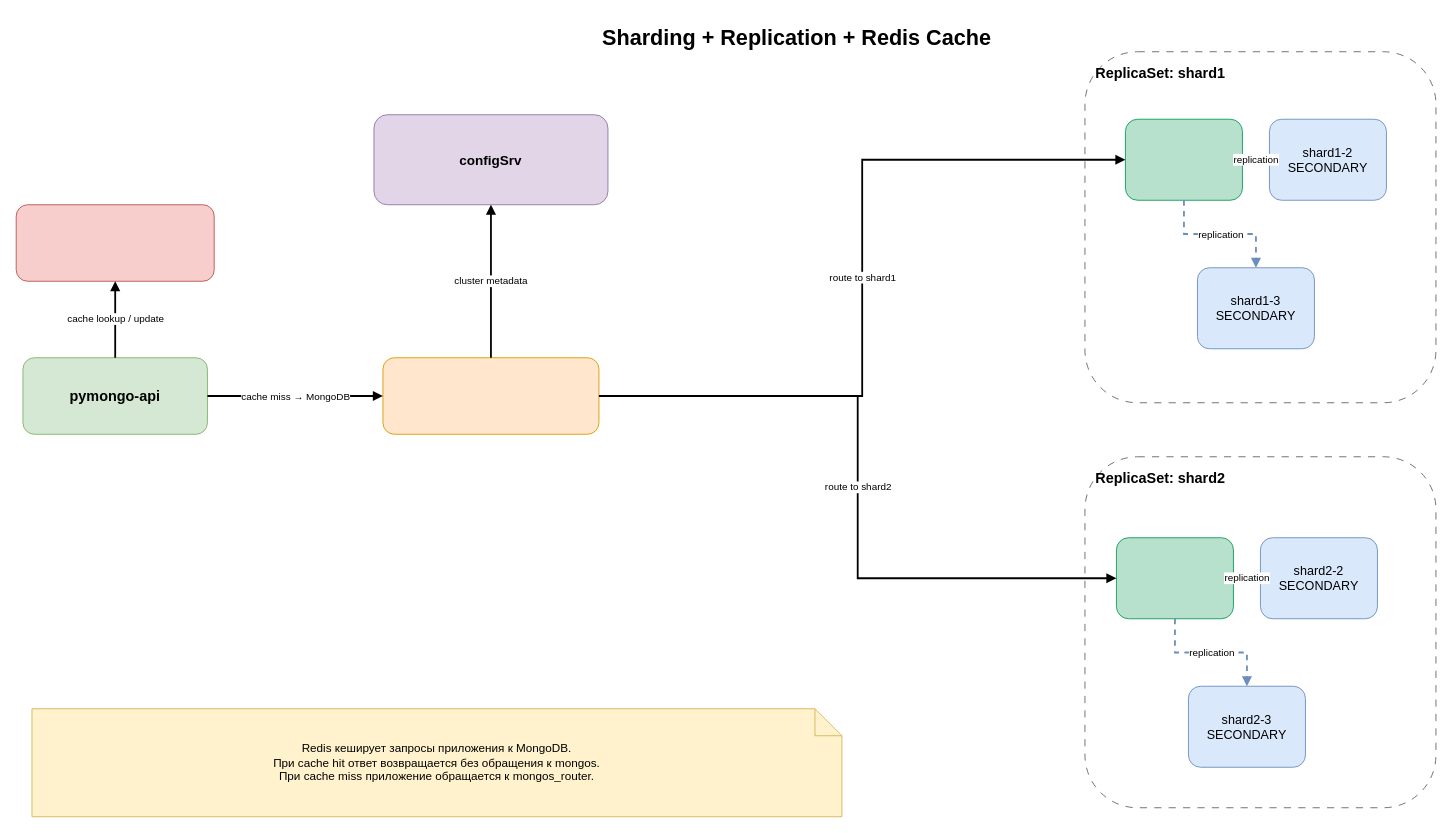
This 1452x833 diagram has some shape labels left out. The shapes that lost their labels are listed below. From the top down, each one's centre as x and y in pixels, then its label:
At (x=1183, y=159): "shard1-1 PRIMARY".
At (x=114, y=242): "redis".
At (x=490, y=395): "mongos_router".
At (x=1174, y=578): "shard2-1 PRIMARY".
